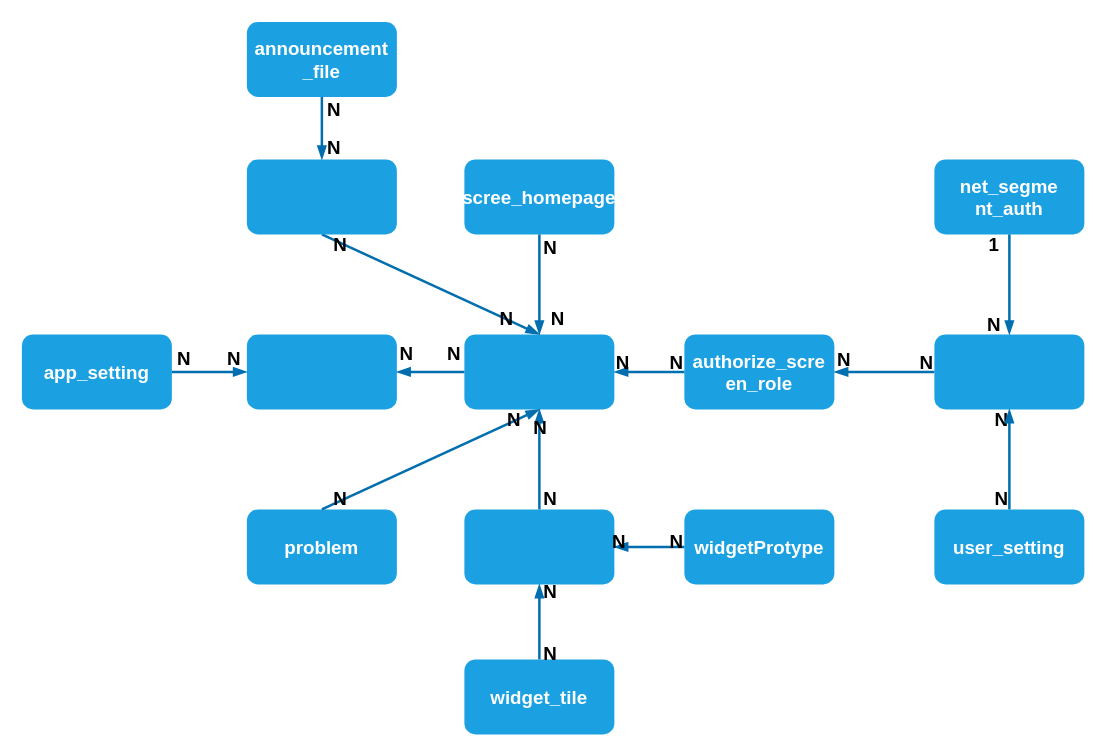
Image size: 1105x755. Some labels were removed from this diagram. The shapes that lost their labels are listed below. From the top down, each one's centre as x and y in pixels, then its label:
At point 321,196: "announcement".
At point 321,371: "app_layout".
At point 539,371: "screen".
At point 1009,371: "user".
At point 539,546: "widget".
